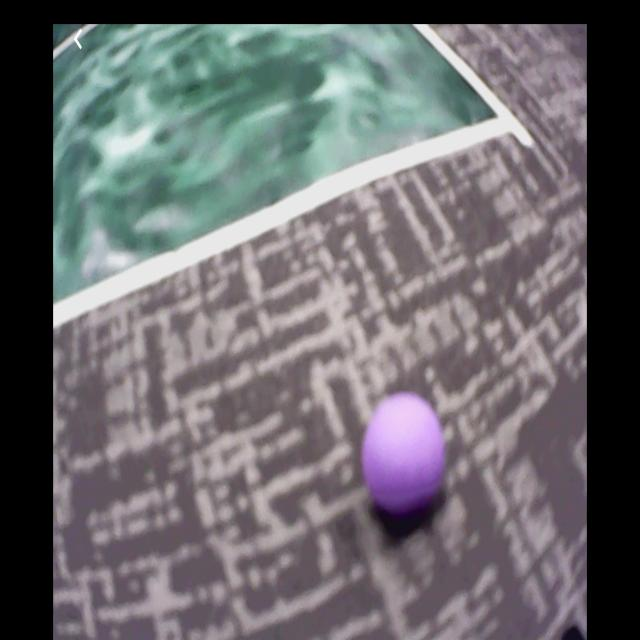ball: (365, 393, 448, 512)
